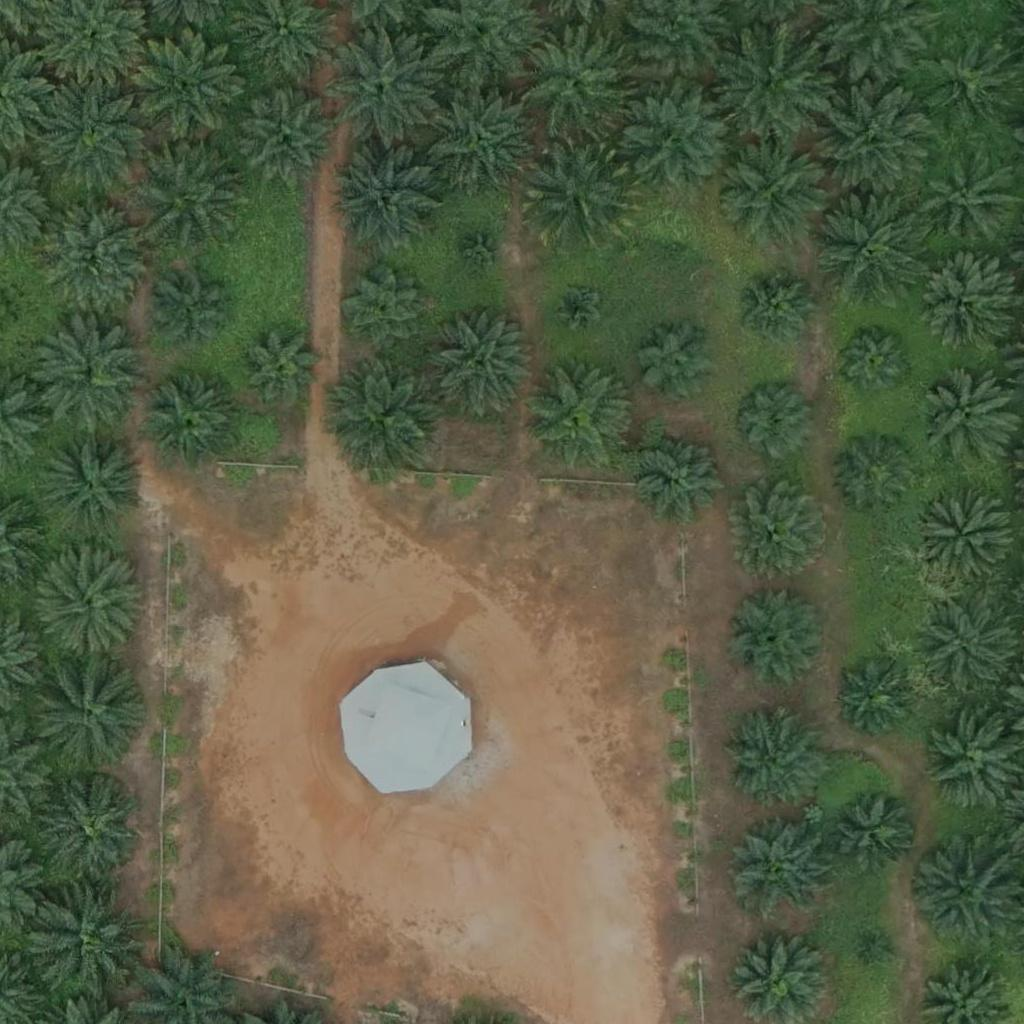Kelapa_Sawit: (813, 184, 926, 298), (713, 25, 826, 139), (38, 198, 151, 312), (908, 835, 1021, 949), (718, 135, 831, 248), (328, 32, 441, 145), (331, 147, 444, 260), (36, 74, 149, 187), (32, 322, 145, 435), (36, 426, 149, 539), (36, 549, 149, 662), (31, 661, 144, 774), (331, 360, 444, 473), (819, 82, 931, 196), (523, 360, 635, 474), (33, 888, 145, 1002), (522, 136, 634, 249), (625, 82, 737, 195), (520, 26, 632, 139), (424, 79, 536, 192), (137, 28, 249, 141), (136, 135, 248, 248), (424, 310, 536, 423), (238, 88, 338, 189), (721, 707, 821, 808), (913, 256, 1013, 357), (919, 368, 1019, 469), (914, 486, 1014, 587), (729, 818, 829, 919), (917, 32, 1017, 132), (921, 151, 1021, 251), (41, 780, 141, 880), (731, 481, 831, 581), (726, 588, 826, 688), (147, 378, 235, 467), (640, 433, 728, 521), (343, 268, 430, 356), (634, 318, 721, 406), (733, 268, 820, 356), (730, 377, 817, 465), (832, 432, 919, 520), (830, 788, 917, 876), (156, 278, 231, 354), (837, 660, 912, 736), (242, 329, 317, 404), (835, 324, 910, 399), (458, 226, 508, 277), (552, 282, 602, 333), (649, 219, 699, 269), (868, 936, 893, 961)
